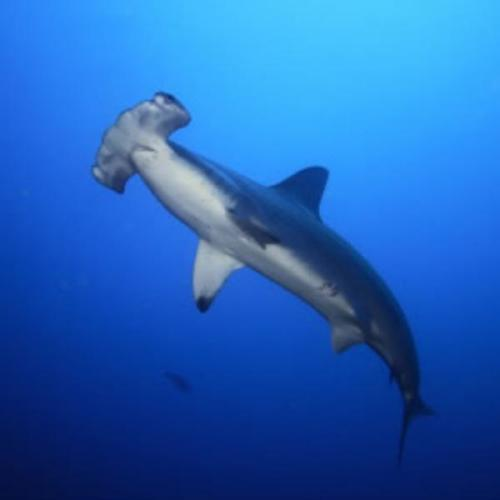shark-endangered: (92, 89, 440, 469)
